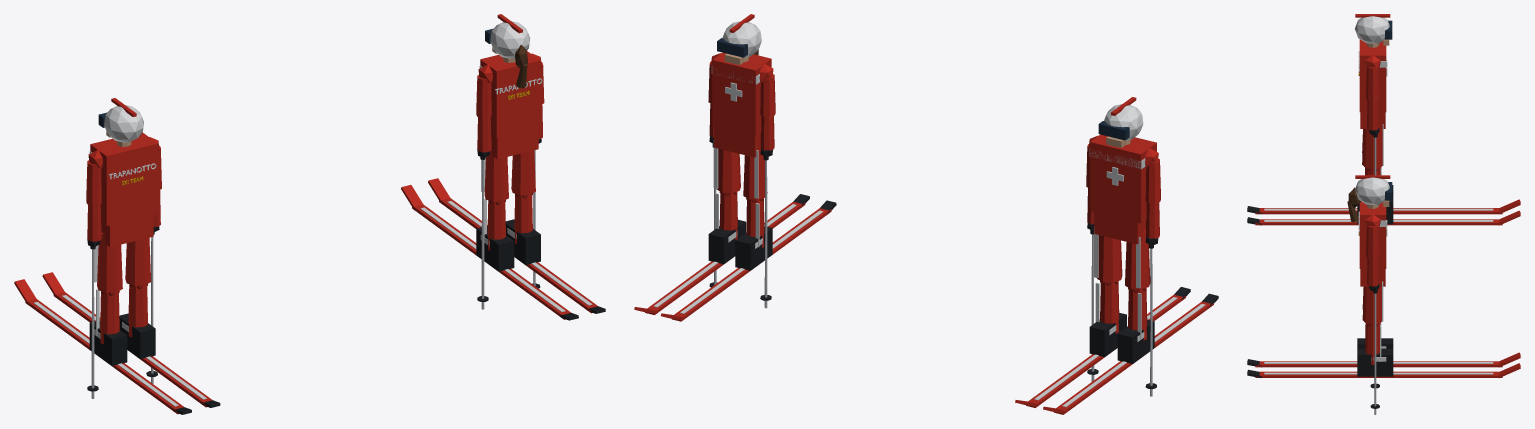
Rendered from skier.glb.
The picture shows the model from 3 angles, left to right: view 1: azimuth 30°, elevation 25°; view 2: azimuth 150°, elevation 25°; view 3: azimuth 270°, elevation 25°; orthographic projection. The views are drawn at different scales.
Parts seen in each view (by area): view 1: torso, torso.001, ski_L, ski_L.001, head.001, ski_R.001, ski_R, head, thigh_L, thigh_L.001, thigh_R, pelvis (+16 smaller); view 2: torso, torso.001, ski_L.001, ski_L, head.001, head, ski_R.001, ski_R, thigh_R, thigh_L, thigh_R.001, boot_L (+15 smaller); view 3: ski_R.001, ski_L.001, ski_R, ski_L, torso, head.001, torso.001, head, boot_R.001, thigh_R, thigh_R.001, shin_R.001 (+6 smaller).
Boxes of the visible parts, left/top/right/bottom form: torso: left=88, top=132, right=159, bottom=225; torso.001: left=478, top=51, right=542, bottom=137; ski_L: left=14, top=279, right=191, bottom=414; ski_L.001: left=401, top=185, right=578, bottom=320; head.001: left=485, top=14, right=530, bottom=88; ski_R.001: left=428, top=178, right=605, bottom=313; ski_R: left=42, top=272, right=220, bottom=407; head: left=98, top=98, right=143, bottom=146; thigh_L: left=94, top=232, right=122, bottom=296; thigh_L.001: left=481, top=147, right=508, bottom=204; thigh_R: left=125, top=237, right=151, bottom=289; pelvis: left=101, top=215, right=153, bottom=246; torso: left=1088, top=134, right=1158, bottom=223; torso.001: left=711, top=52, right=773, bottom=136; ski_L.001: left=661, top=200, right=836, bottom=321; ski_L: left=1043, top=293, right=1218, bottom=414; head.001: left=717, top=14, right=761, bottom=65; head: left=1098, top=97, right=1143, bottom=147; ski_R.001: left=634, top=194, right=809, bottom=314; ski_R: left=1015, top=287, right=1190, bottom=407; thigh_R: left=1094, top=227, right=1122, bottom=285; thigh_L: left=1125, top=230, right=1150, bottom=292; thigh_R.001: left=713, top=140, right=740, bottom=196; boot_L: left=1117, top=319, right=1154, bottom=363; ski_R.001: left=1247, top=363, right=1520, bottom=377; ski_L.001: left=1247, top=352, right=1520, bottom=367; ski_R: left=1247, top=210, right=1520, bottom=225; ski_L: left=1247, top=199, right=1520, bottom=214; torso: left=1358, top=39, right=1387, bottom=112; head.001: left=1347, top=175, right=1392, bottom=222; torso.001: left=1358, top=201, right=1387, bottom=268; head: left=1355, top=14, right=1392, bottom=47; boot_R.001: left=1357, top=348, right=1393, bottom=376; thigh_R: left=1362, top=124, right=1383, bottom=170; thigh_R.001: left=1362, top=281, right=1383, bottom=326; shin_R.001: left=1365, top=323, right=1381, bottom=364.
Bounding box in the file's own units: 3.55 × 2.17 × 2.27.
